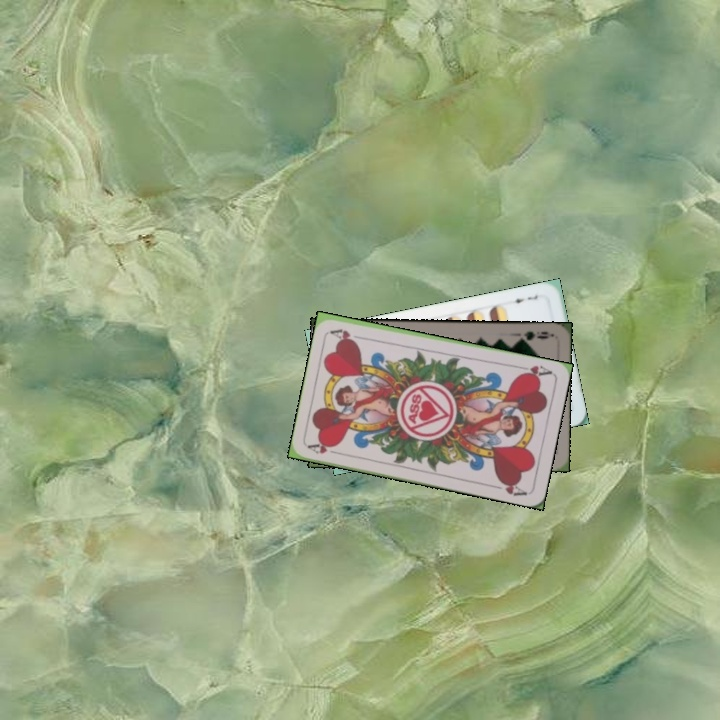E7: (506, 291, 540, 306)
G9: (514, 327, 555, 345)
HA: (514, 361, 554, 381), (305, 439, 345, 458)
